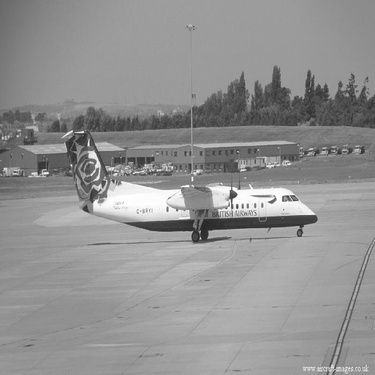airplane: (44, 126, 321, 244)
